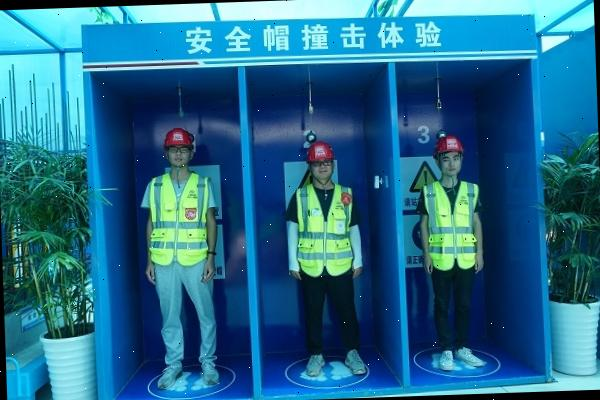helmet: (304, 138, 334, 166), (430, 134, 466, 157), (162, 126, 195, 150)
wear: (142, 173, 218, 262), (421, 179, 488, 272), (294, 187, 356, 279)
